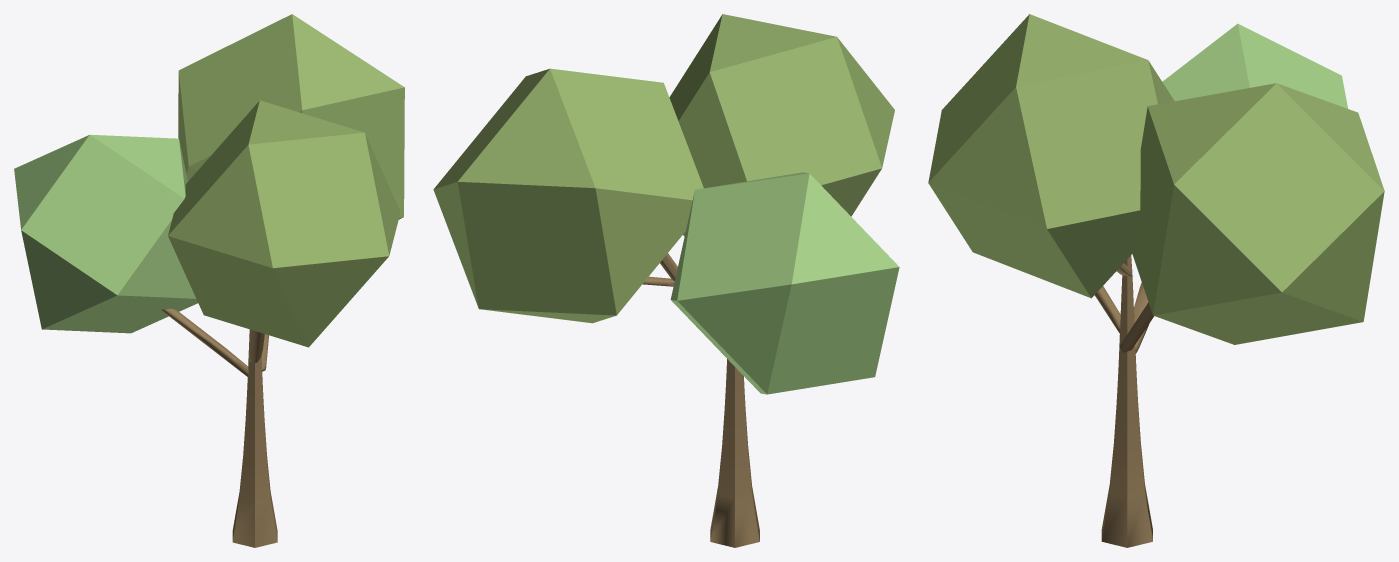
The model's file is tree.2.1.1.fbx.
3 renders of one model, left to right at view 1: azimuth 30°, elevation 25°; view 2: azimuth 150°, elevation 25°; view 3: azimuth 270°, elevation 25°, orthographic. The views are drawn at different scales.
Parts seen in each view (by area): view 1: tree2; view 2: tree2; view 3: tree2.
Boxes of the visible parts, <box> form: tree2: <box>14,14,404,547</box>; tree2: <box>433,14,899,547</box>; tree2: <box>928,14,1384,547</box>.
Bounding box in the file's own units: 395 × 426 × 346.
